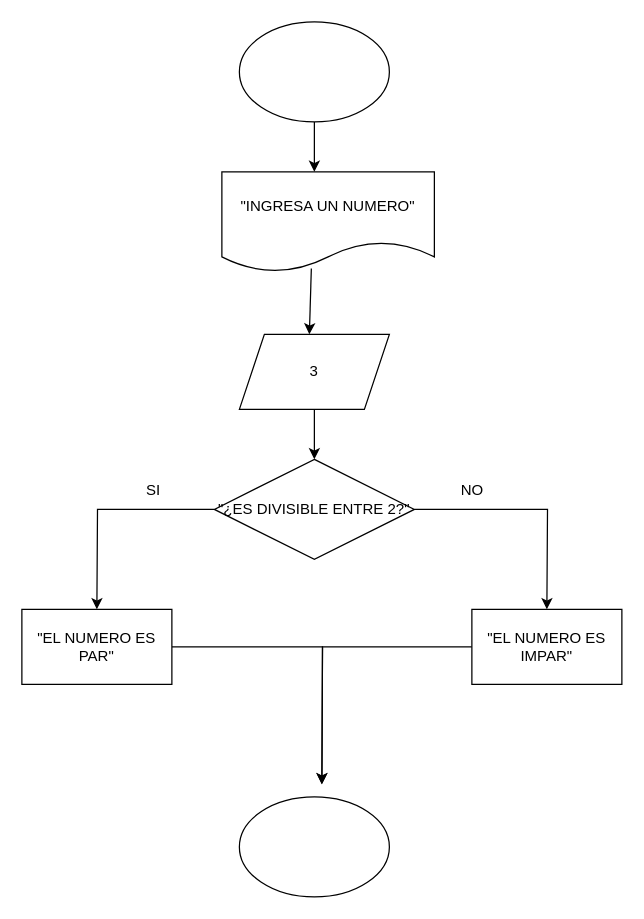
The diagram is 644 pixels wide and 919 high, and some of its shapes have lost their labels. The shapes that lost their labels are listed below. From the top down, each one's centre as x and y in pixels, then its label:
At point (313, 71): "INICIO".
At point (313, 846): "FIN".
